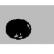correct: (5, 18, 33, 40)
